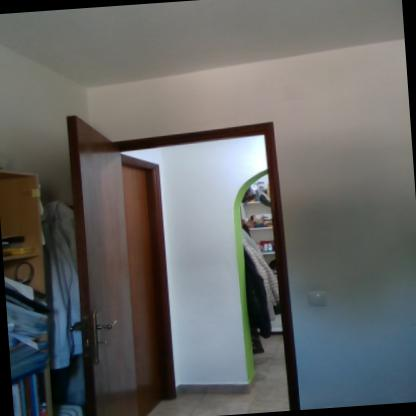open: (97, 100, 311, 415)
